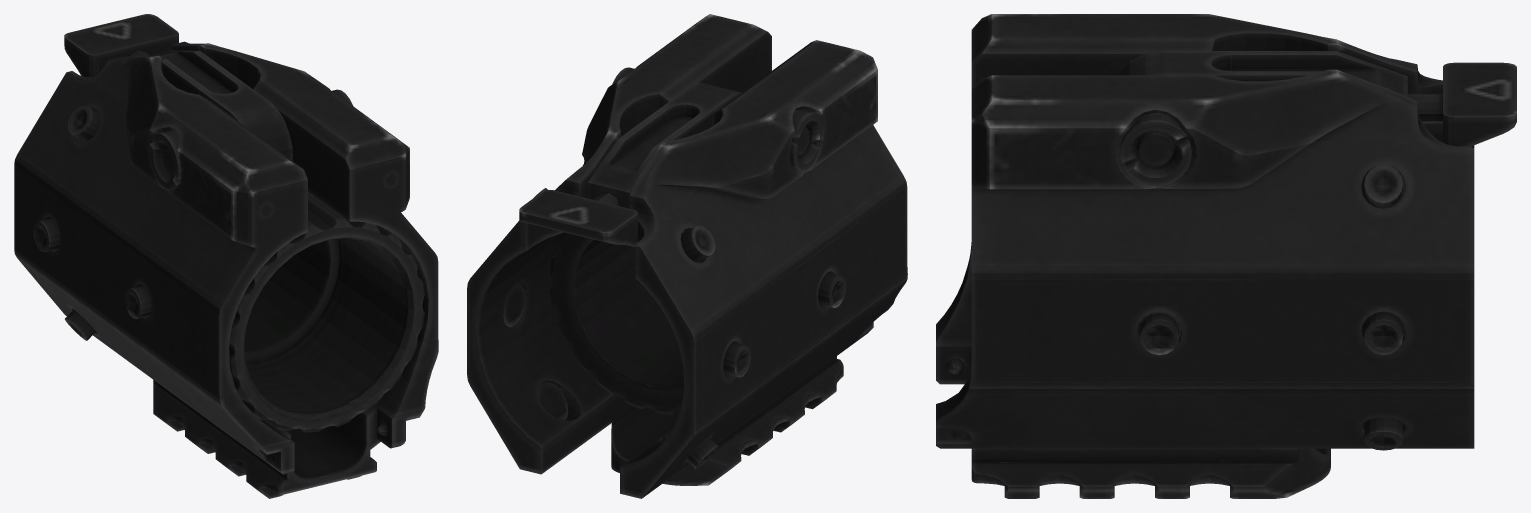
3 renders of one model, left to right at view 1: azimuth 30°, elevation 25°; view 2: azimuth 150°, elevation 25°; view 3: azimuth 270°, elevation 25°, orthographic. The views are drawn at different scales.
Visible parts, largest first — view 1: TW_68a5dc0c2cd64a8b58023b87_PZ_Import; view 2: TW_68a5dc0c2cd64a8b58023b87_PZ_Import; view 3: TW_68a5dc0c2cd64a8b58023b87_PZ_Import.
Part boxes in pixels (<box>): TW_68a5dc0c2cd64a8b58023b87_PZ_Import: <box>14,14,438,498</box>; TW_68a5dc0c2cd64a8b58023b87_PZ_Import: <box>467,14,907,498</box>; TW_68a5dc0c2cd64a8b58023b87_PZ_Import: <box>936,14,1516,498</box>.
Size of the model in its own units: 0.026 by 0.0447 by 0.0353.
1 material, 1 textured.
